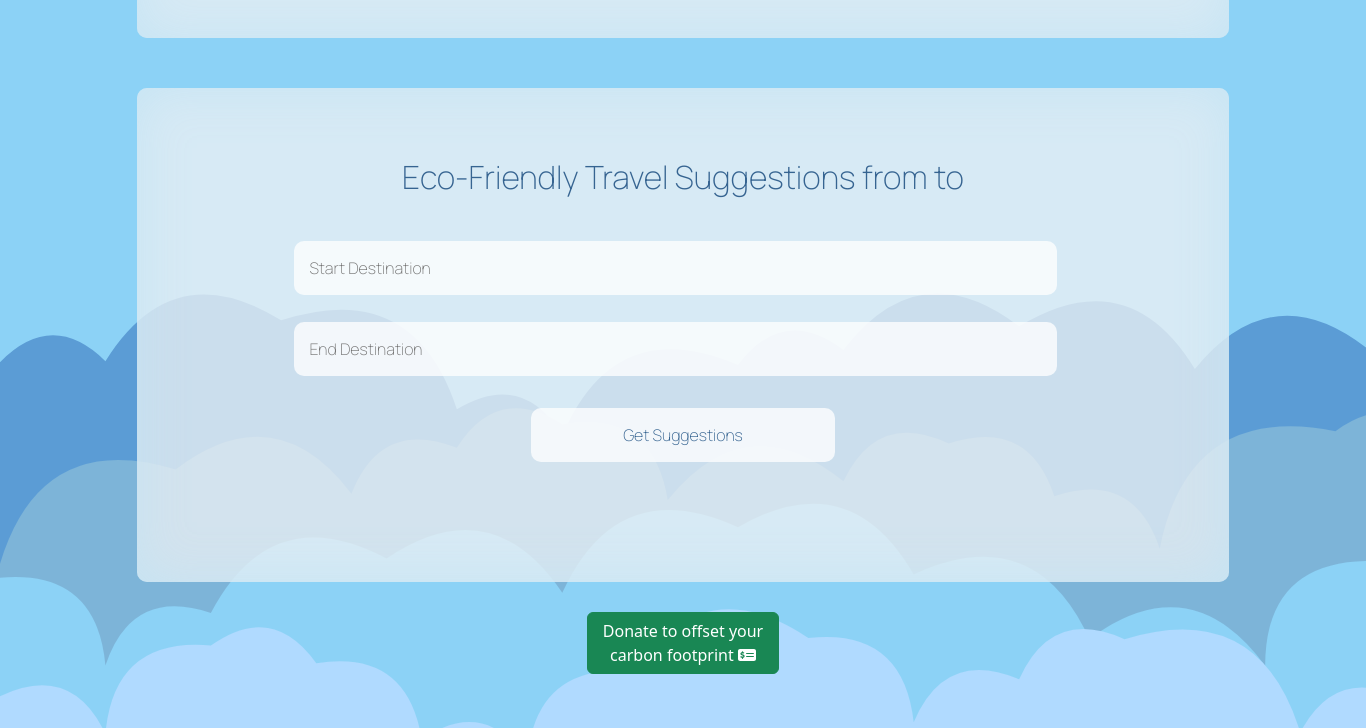
Test: Journey Page › should close the donate modal
(page scrolled)
Click the button with test id "donate_button" at (683, 644), box [587,612,779,674]
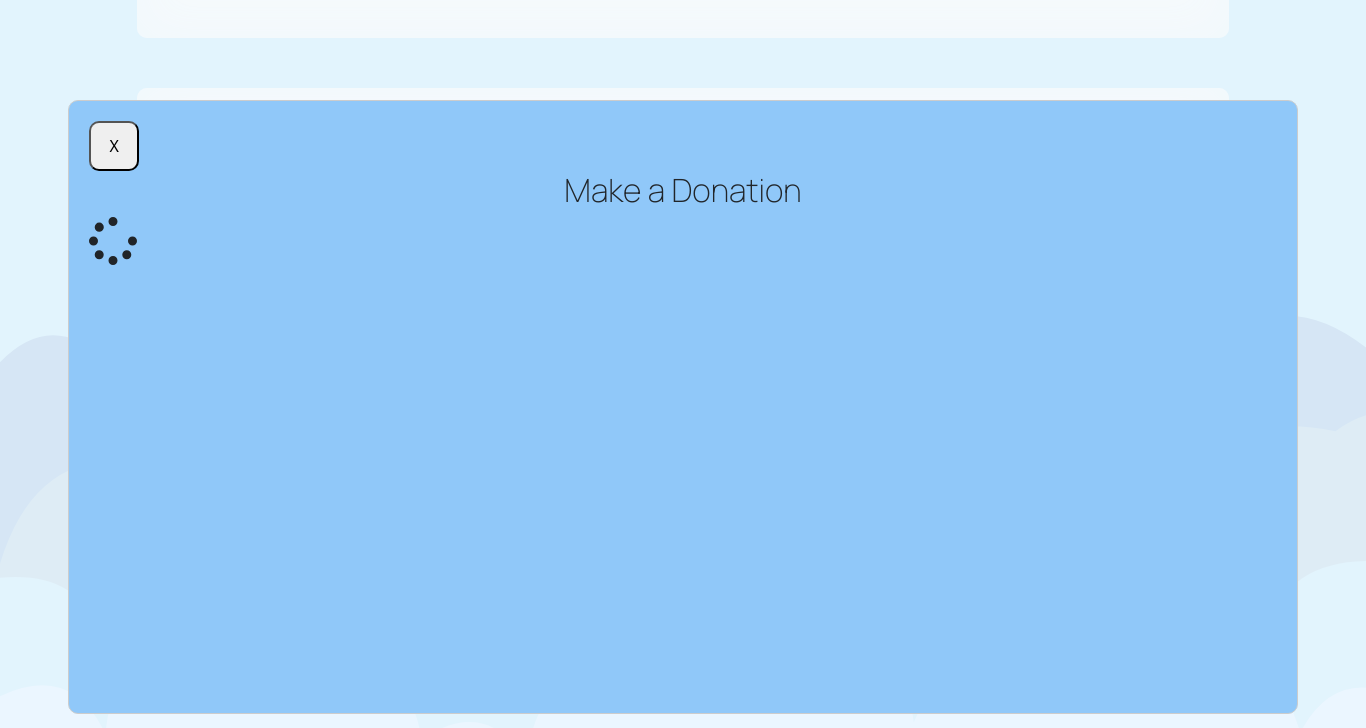
Expected: the heading "Make a Donation" is shown, [564,168,802,212]
Click the button with test id "close_button" at (114, 146), box [89,121,139,171]
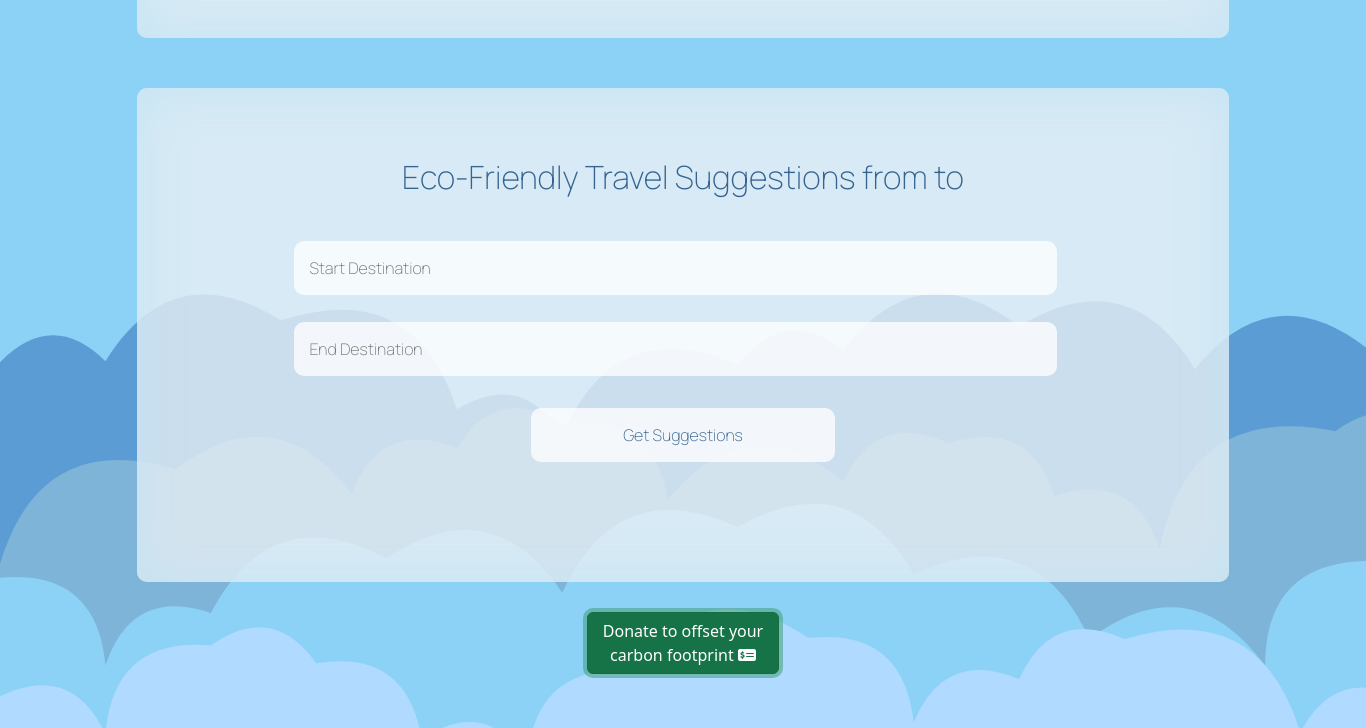
Expected: the heading with test id "modal_title" is gone
